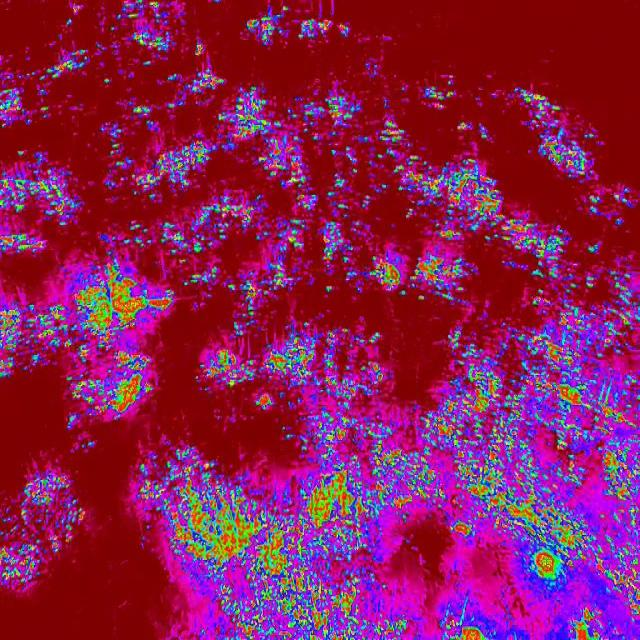fire: (0, 56, 640, 440), (136, 441, 640, 640), (55, 0, 391, 56), (0, 462, 86, 592)
